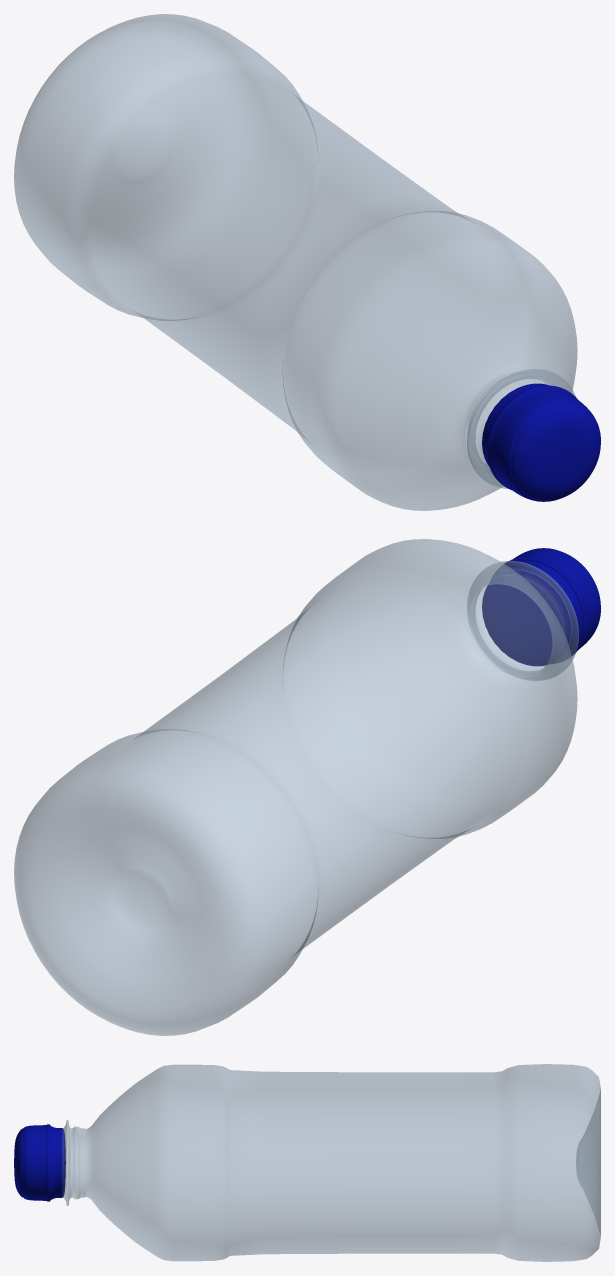
File: Bottle 1.fbx
3 renders of one model, top to bottom at view 1: azimuth 30°, elevation 25°; view 2: azimuth 150°, elevation 25°; view 3: azimuth 270°, elevation 25°, orthographic. The views are drawn at different scales.
Parts seen in each view (by area): view 1: Cylinder.002; view 2: Cylinder.002; view 3: Cylinder.002.
Part boxes in pixels (bbox=[...]): Cylinder.002: bbox=[14, 14, 600, 510]; Cylinder.002: bbox=[14, 539, 600, 1035]; Cylinder.002: bbox=[14, 1064, 600, 1261].
Size of the model in its own units: 214 by 214 by 635.
